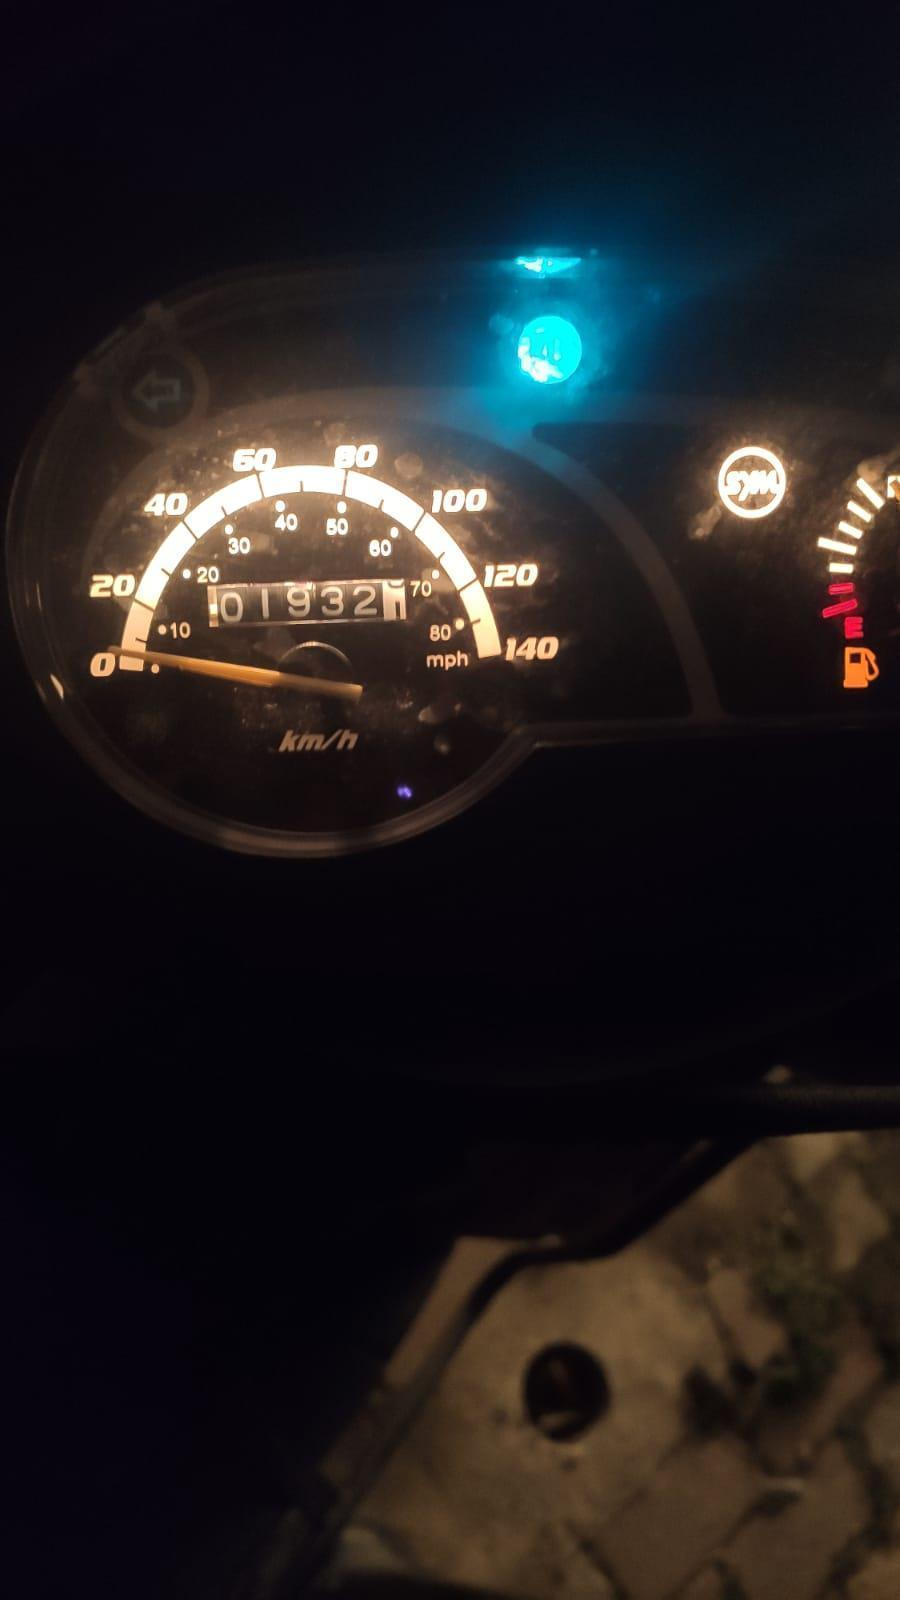0: (216, 588, 248, 627)
1: (254, 582, 273, 624), (387, 595, 405, 629)
2: (351, 582, 376, 619)
3: (320, 584, 344, 620)
9: (286, 582, 312, 621)
odometer: (203, 577, 411, 634)
